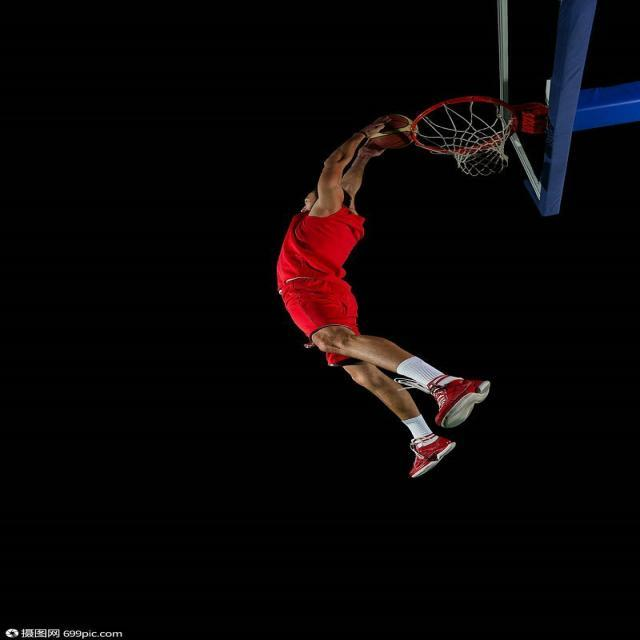rim: (367, 112, 419, 150)
